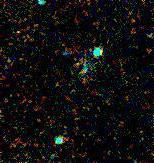star: (5, 25, 35, 55)
